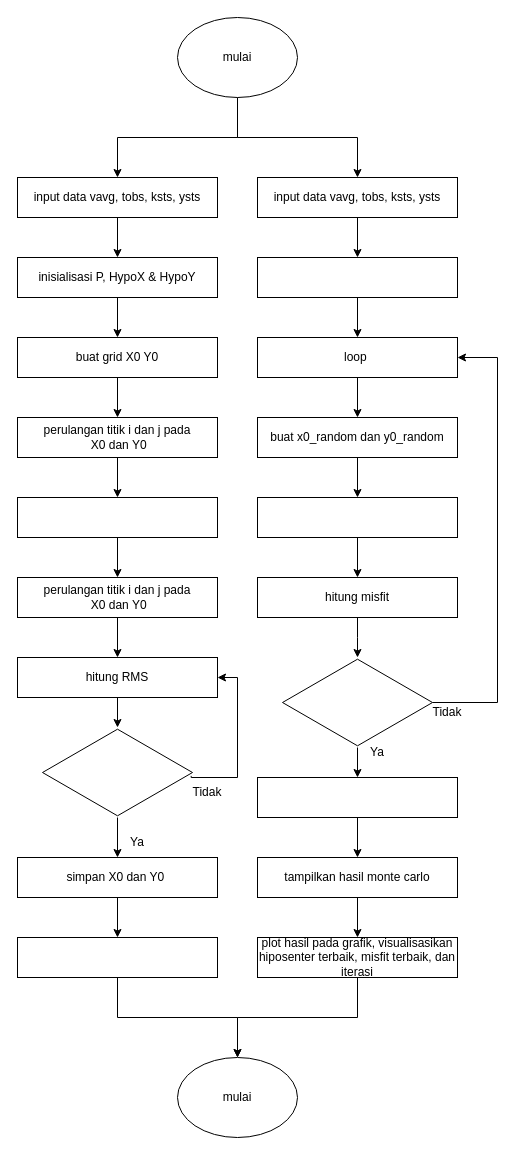
This 523x1155 diagram has some shape labels left out. Each missing label, with the centre of its shape:
apakah misfit random < misfit terbaik?: pixel 357 702
hitung tcal ke semua stasiun: pixel 117 517
hitung tcal untuk semua stasiun: pixel 357 517
inisialisasi tebakan awal, misfit terbaik dan iterasi: pixel 357 277
Misfit < P?: pixel 117 772
simpan misfit terbaik: pixel 357 797
tampilkan dan visualisasikan posisi stasiun, plot grid search, nilai rms: pixel 117 957
